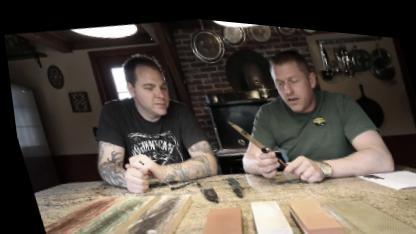knife: (216, 103, 278, 170)
